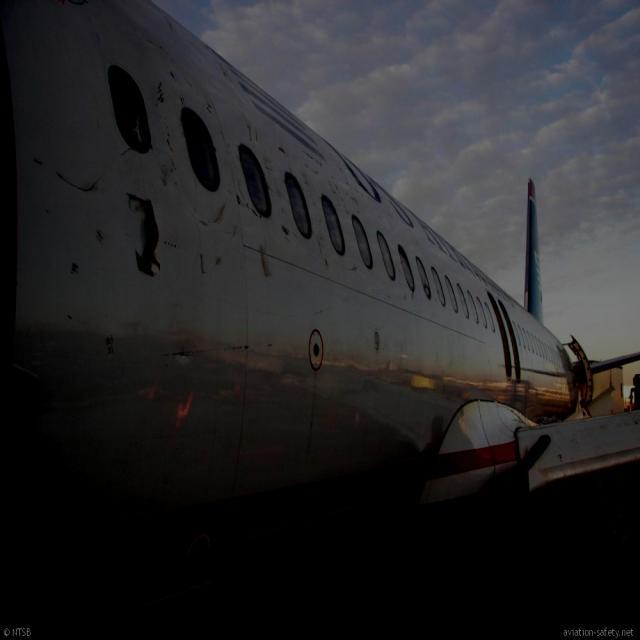crack: (121, 185, 171, 286)
